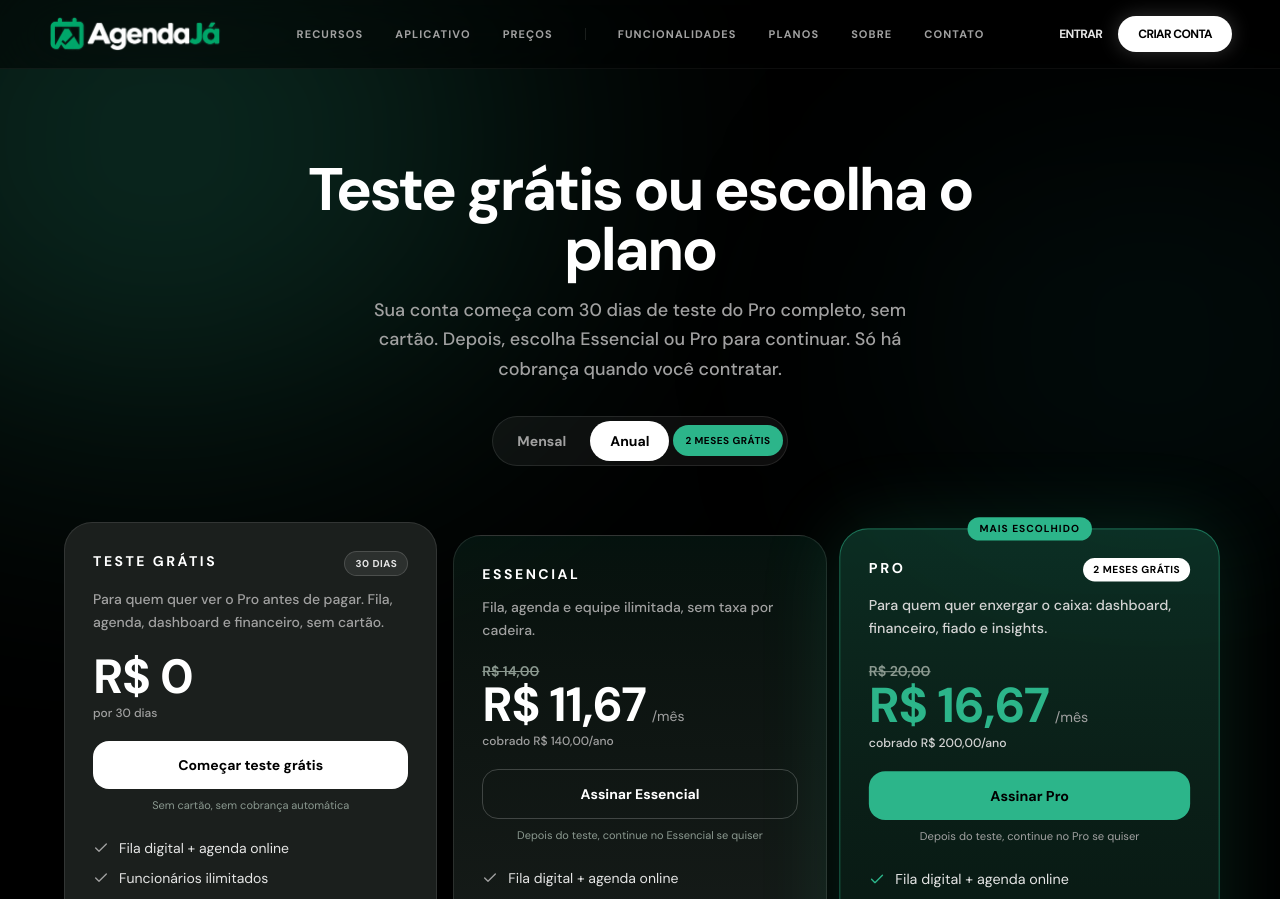
PlansPage › alterna o preço mensal e o equivalente anual
Check: the text with test id "plan-price-essential" shows "11,67", box [482,673,646,736]
Check: the text with test id "plan-price-pro" shows "16,67", box [868,672,1048,737]
Click the button "Mensal" at x=542, y=441, box [497,421,586,461]
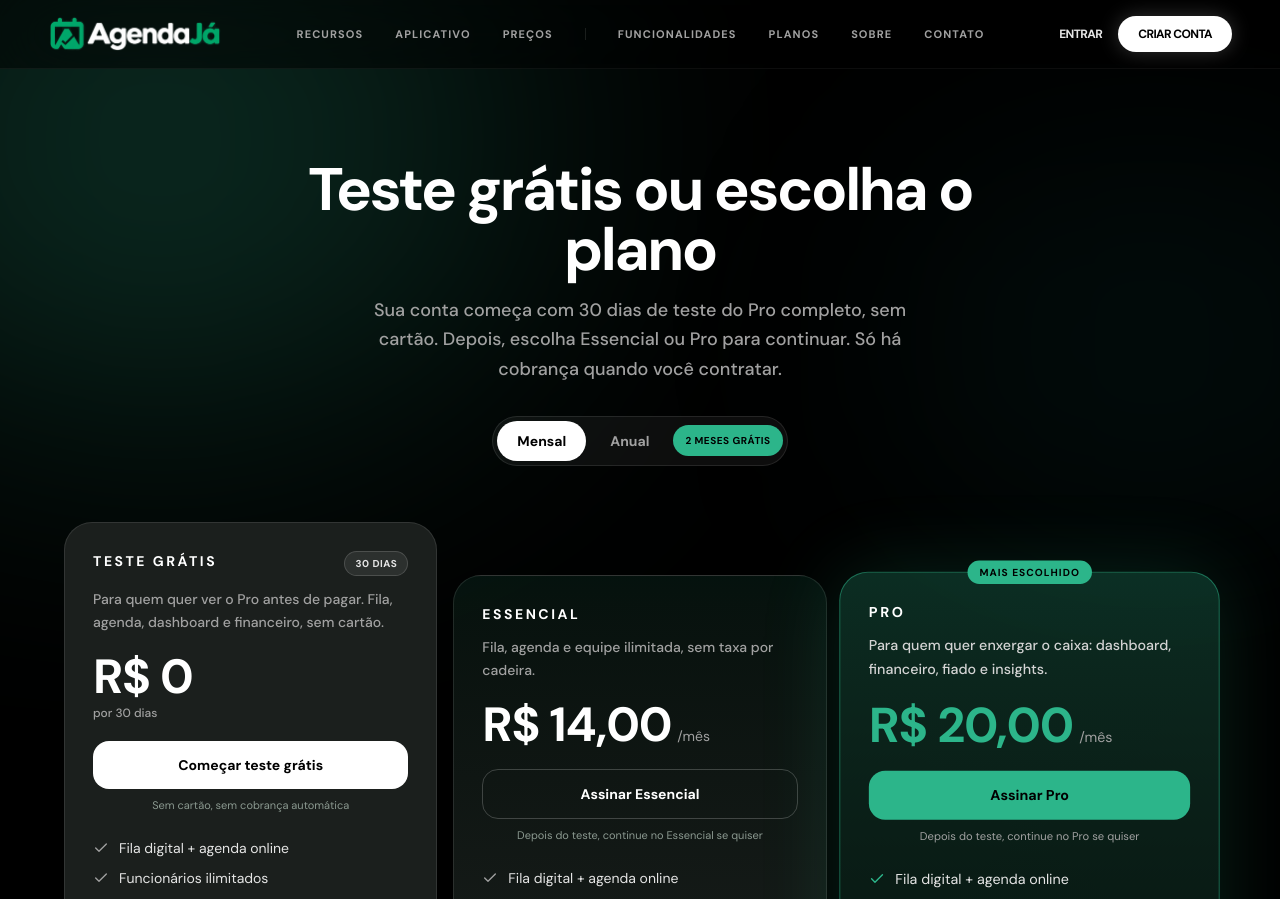
Check: the text with test id "plan-price-essential" shows "14,00", box [482,693,671,756]
Check: the text with test id "plan-price-pro" shows "20,00", box [868,692,1073,757]
Check: the text with test id "plan-billed-essential" is gone
